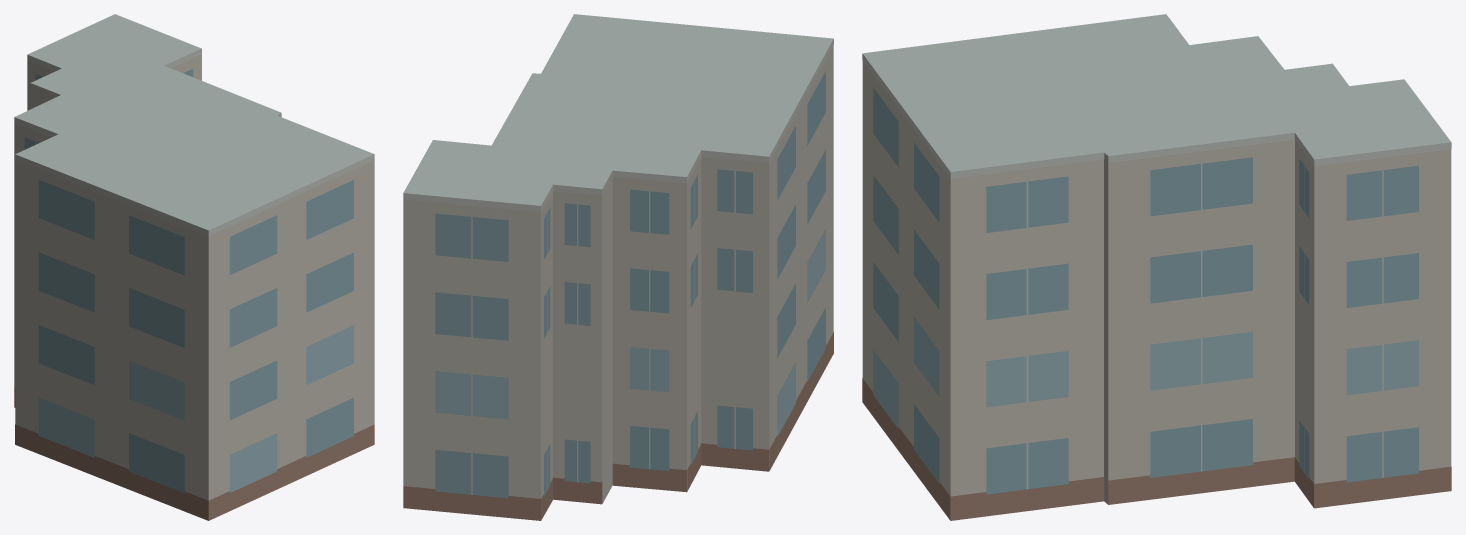
Rendered from survey-upis-32534025.glb.
The picture shows the model from 3 angles, left to right: view 1: azimuth 30°, elevation 25°; view 2: azimuth 150°, elevation 25°; view 3: azimuth 270°, elevation 25°; orthographic projection. The views are drawn at different scales.
Visible parts, largest first — view 1: survey-upis-32534025.tmp; view 2: survey-upis-32534025.tmp; view 3: survey-upis-32534025.tmp.
Part boxes in pixels (x1=…): survey-upis-32534025.tmp: x1=14, y1=14, x2=374, y2=520; survey-upis-32534025.tmp: x1=403, y1=14, x2=833, y2=520; survey-upis-32534025.tmp: x1=862, y1=14, x2=1451, y2=520.
Size of the model in its own units: 11.96 by 12.3 by 18.84.
